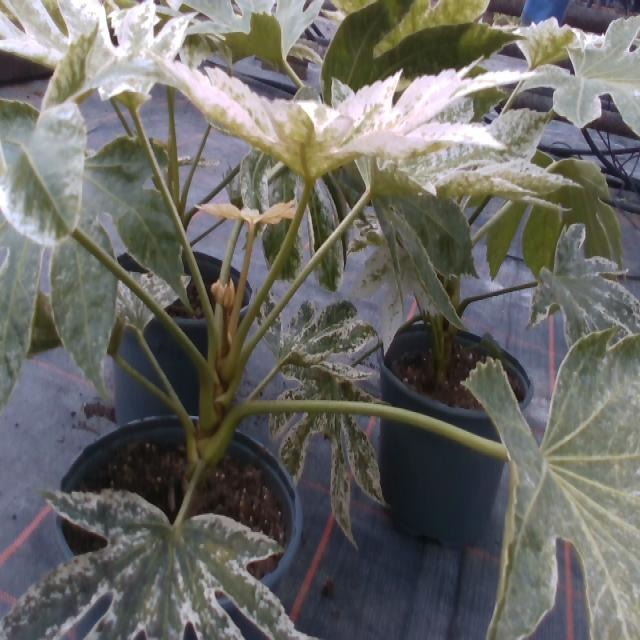Fatsia-japonica: (0, 94, 193, 403), (456, 324, 640, 640), (0, 453, 306, 640), (155, 38, 486, 210), (470, 138, 640, 298), (0, 0, 192, 112), (281, 361, 393, 538), (516, 223, 640, 359), (169, 0, 327, 81), (553, 9, 640, 150), (254, 282, 372, 380)
